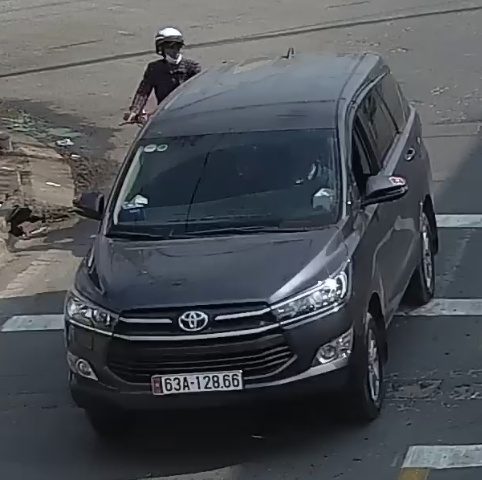vehicle plate: (147, 367, 253, 399)
